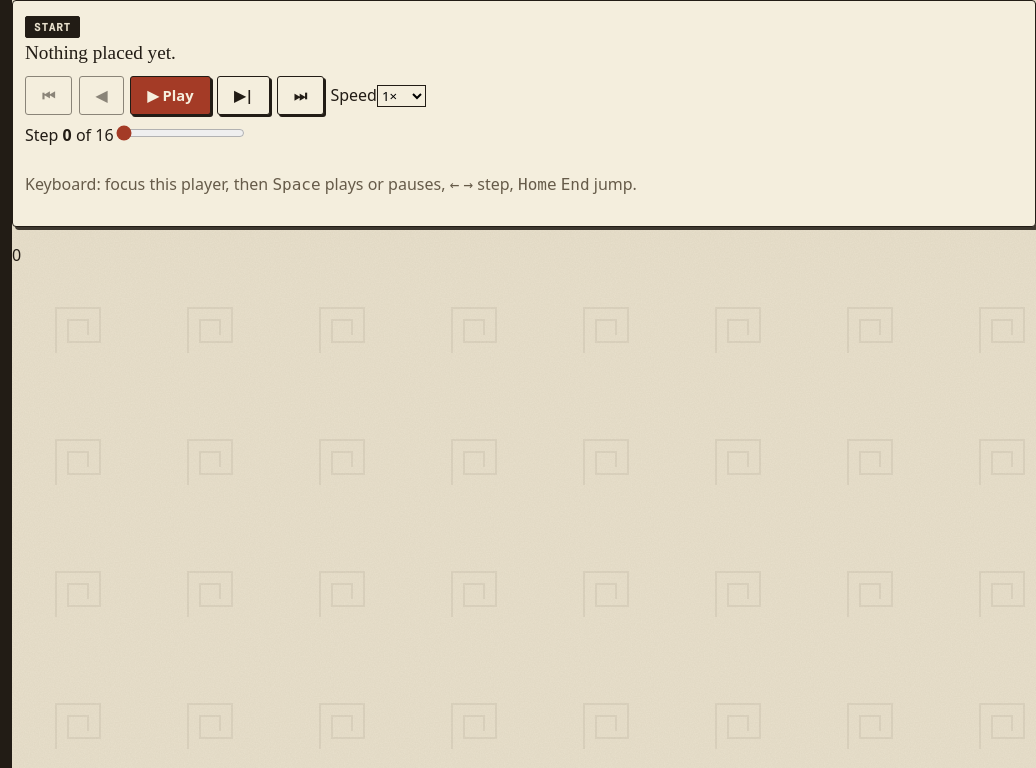
TracePlayer › plays at the chosen speed and stops at the end
Click the button "▶ Play" at coordinates (170, 96), box [130,76,211,115]
Wait 900 ms
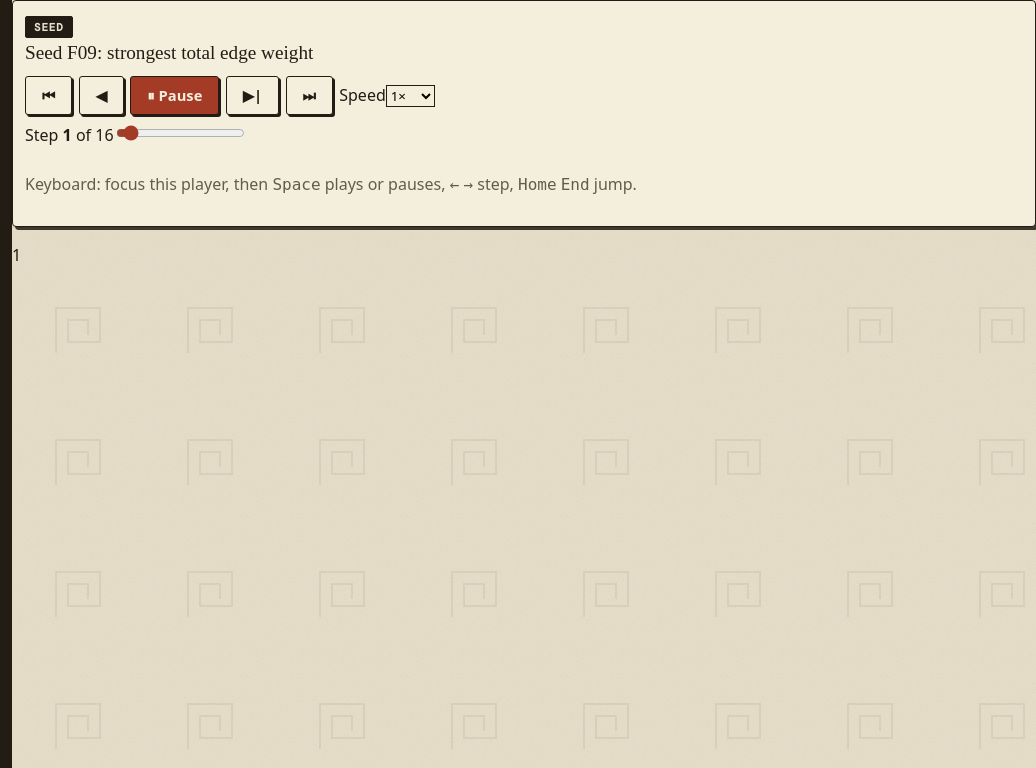
Select "4×" in the dropdown labelled "Speed" at coordinates (410, 96), box [386,85,435,107]
Wait 14625 ms
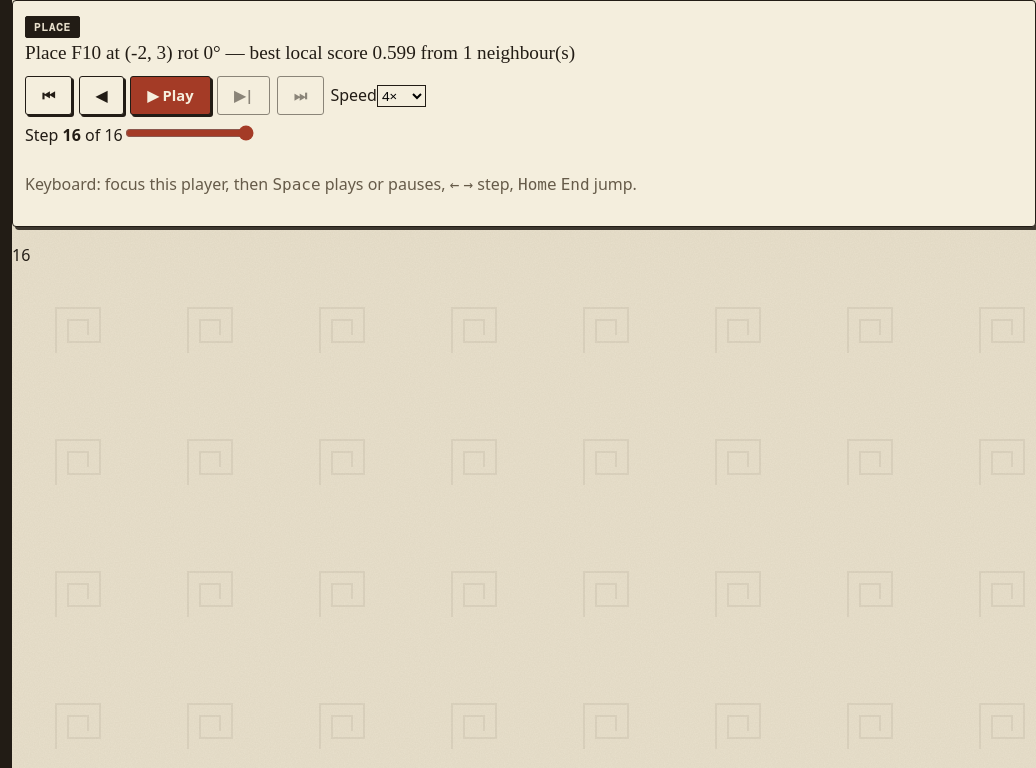
Result: the button "▶ Play" is shown at [130,76,211,115]
